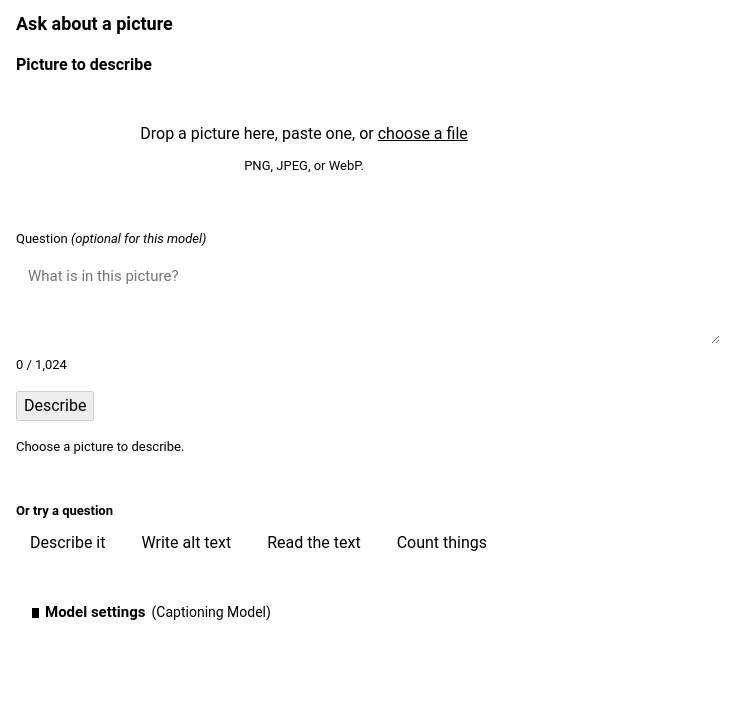
Test: the reorganised layout › still allows the settings to be opened and edited
Click the heading "Model settings (Captioning Model)": {"x": 158, "y": 612} left=45, top=603, right=271, bottom=621
(page scrolled)
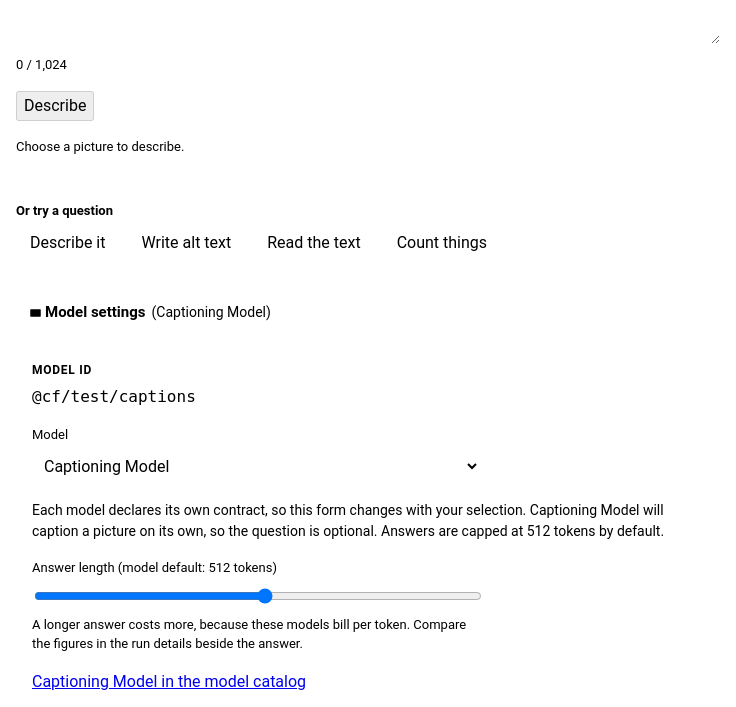
Expected: the dropdown labelled "Model" is shown, left=32, top=448, right=480, bottom=484
